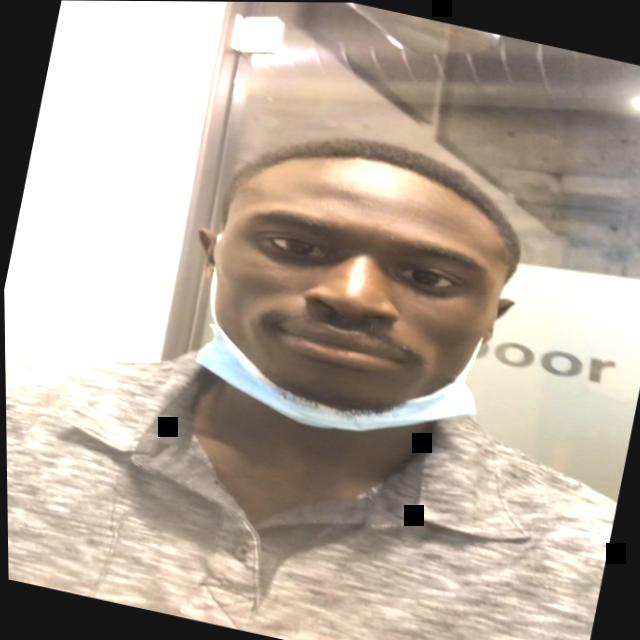NO-Mask: (180, 119, 535, 436)
